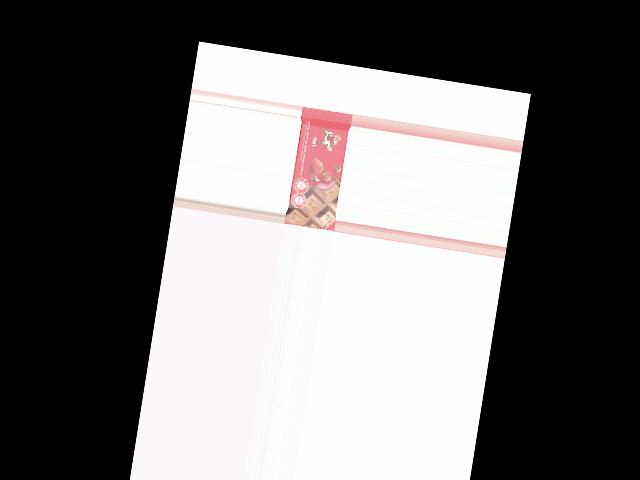chocolate: (283, 105, 352, 230)
